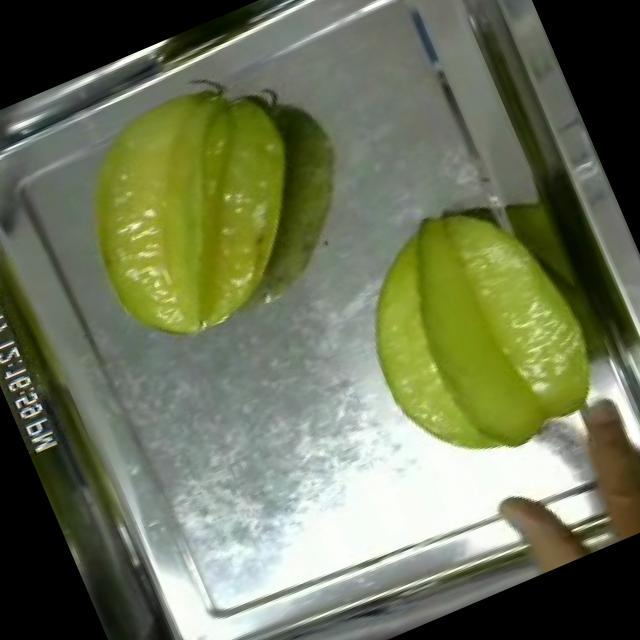fruit: (36, 44, 358, 372), (322, 162, 628, 496)
